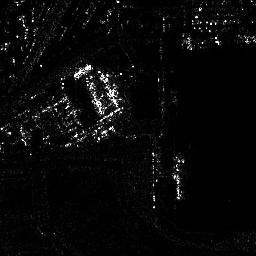ship: (171, 154, 185, 201)
